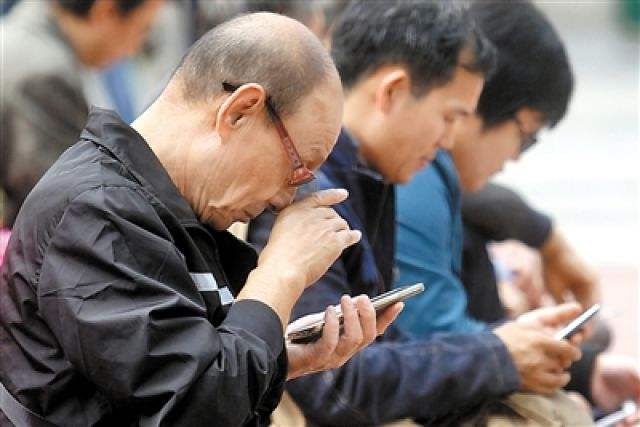reading: (286, 280, 430, 377)
